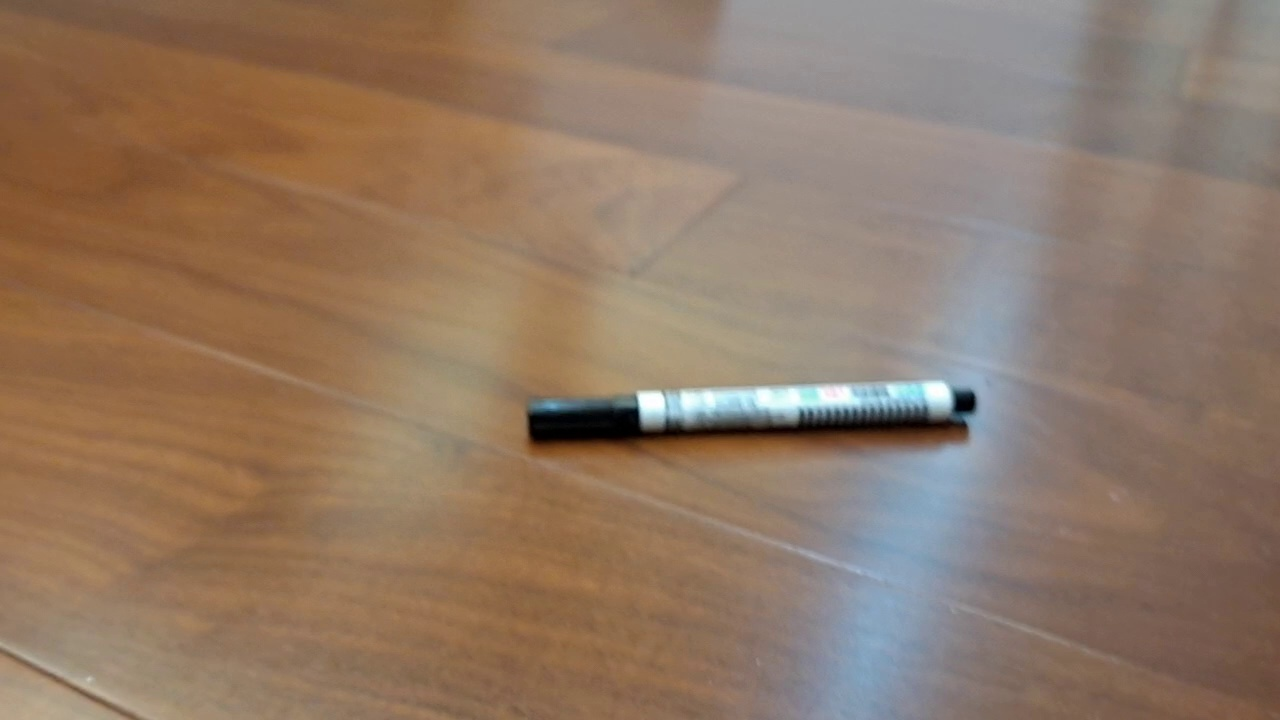pen: (527, 380, 976, 443)
